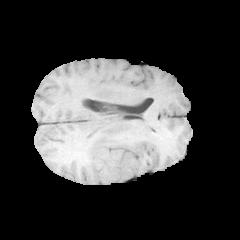glioma: (84, 133, 135, 181)
